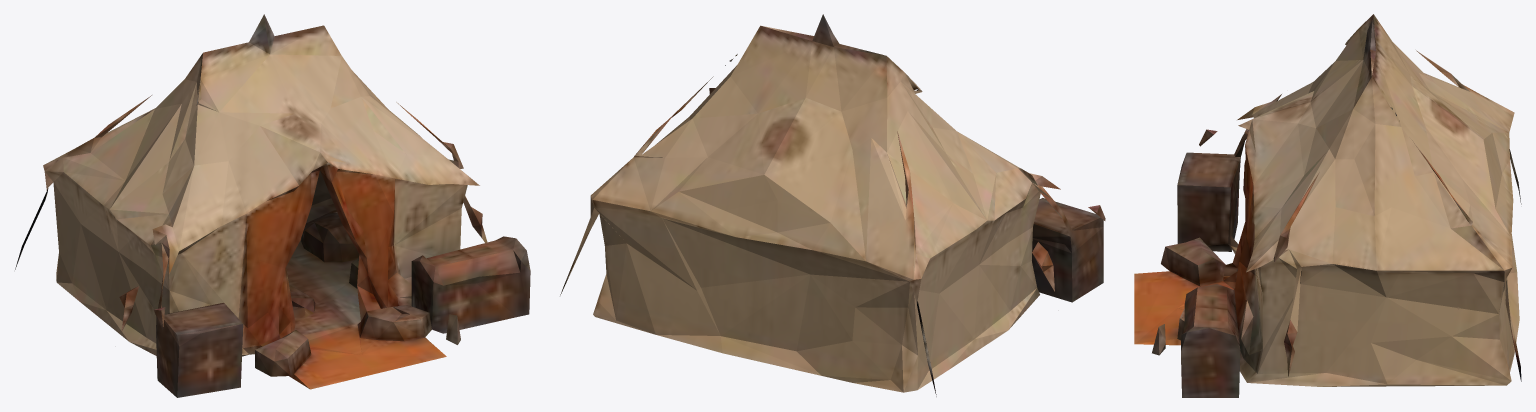
Rendered from tent_camp_b_lod0.glb.
The picture shows the model from 3 angles, left to right: view 1: azimuth 30°, elevation 25°; view 2: azimuth 150°, elevation 25°; view 3: azimuth 270°, elevation 25°; orthographic projection. The views are drawn at different scales.
Visible parts, largest first — view 1: tent_camp_b_lod0; view 2: tent_camp_b_lod0; view 3: tent_camp_b_lod0.
Boxes of the visible parts, x1,y1,x2,y2 form: tent_camp_b_lod0: (15, 14, 530, 397); tent_camp_b_lod0: (560, 14, 1105, 396); tent_camp_b_lod0: (1134, 14, 1521, 397).
Size of the model in its own units: 4.91 by 3.52 by 4.24.
1 material, 1 textured.
